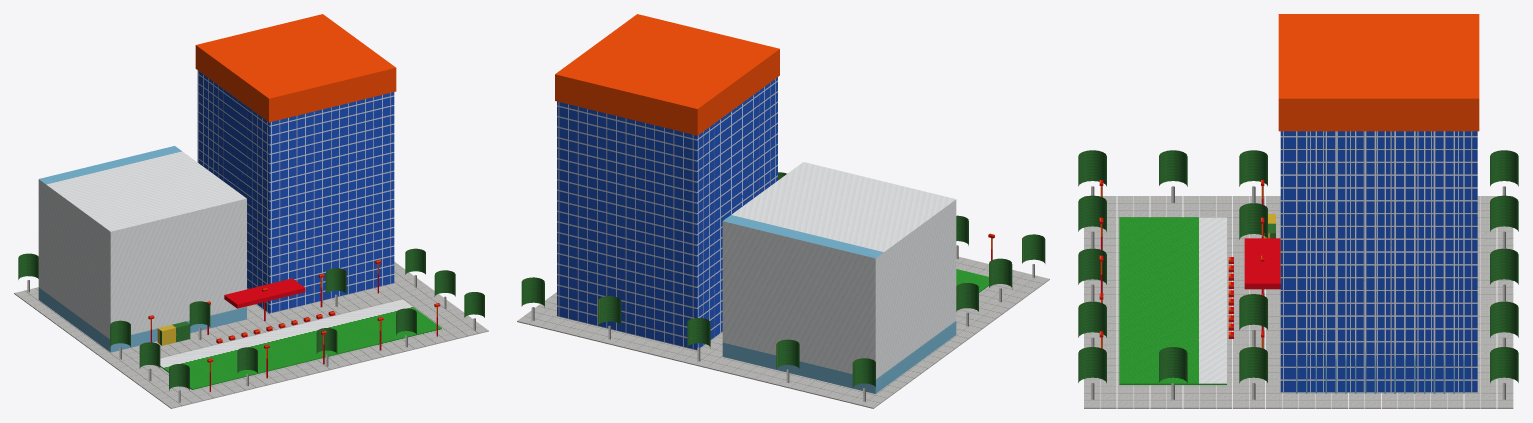
3 renders of one model, left to right at view 1: azimuth 30°, elevation 25°; view 2: azimuth 150°, elevation 25°; view 3: azimuth 270°, elevation 25°, orthographic. The views are drawn at different scales.
Visible parts, largest first — view 1: 28185_B32_SK_bioscience_Global_RPD_Center; view 2: 28185_B32_SK_bioscience_Global_RPD_Center; view 3: 28185_B32_SK_bioscience_Global_RPD_Center.
Part boxes in pixels (x1,y1,x2,y2): 28185_B32_SK_bioscience_Global_RPD_Center: (14,14,488,408); 28185_B32_SK_bioscience_Global_RPD_Center: (517,14,1049,408); 28185_B32_SK_bioscience_Global_RPD_Center: (1078,14,1518,408).
Size of the model in its own units: 55.95 by 36.5 by 49.2.
1 material, 1 textured.
